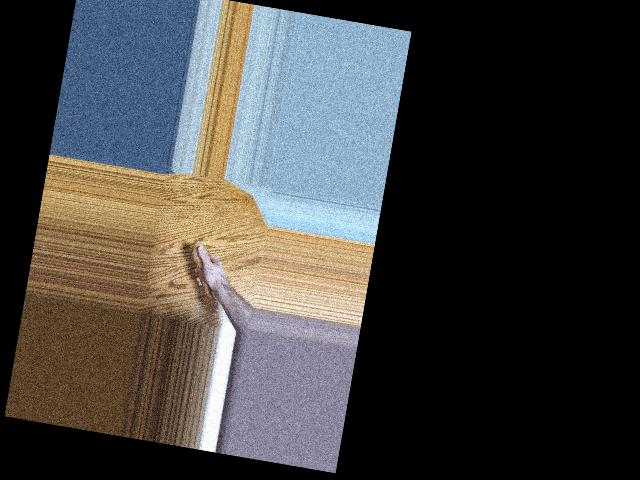sweet_potato: (179, 239, 232, 319)
